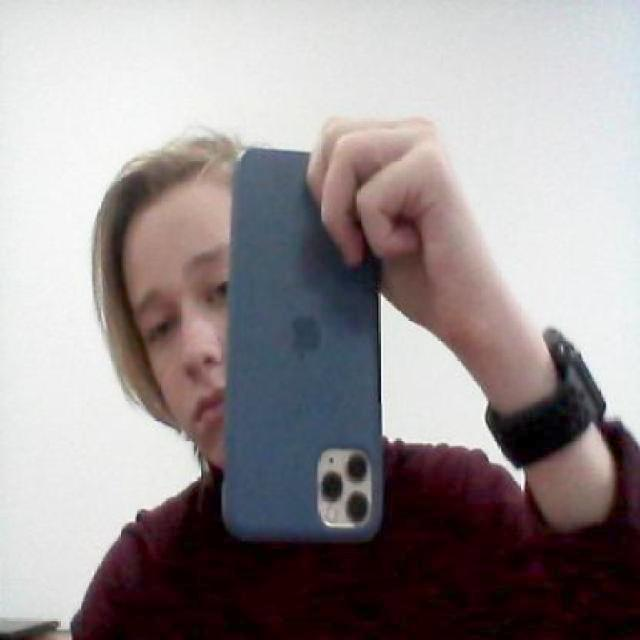phone: (228, 142, 390, 562)
